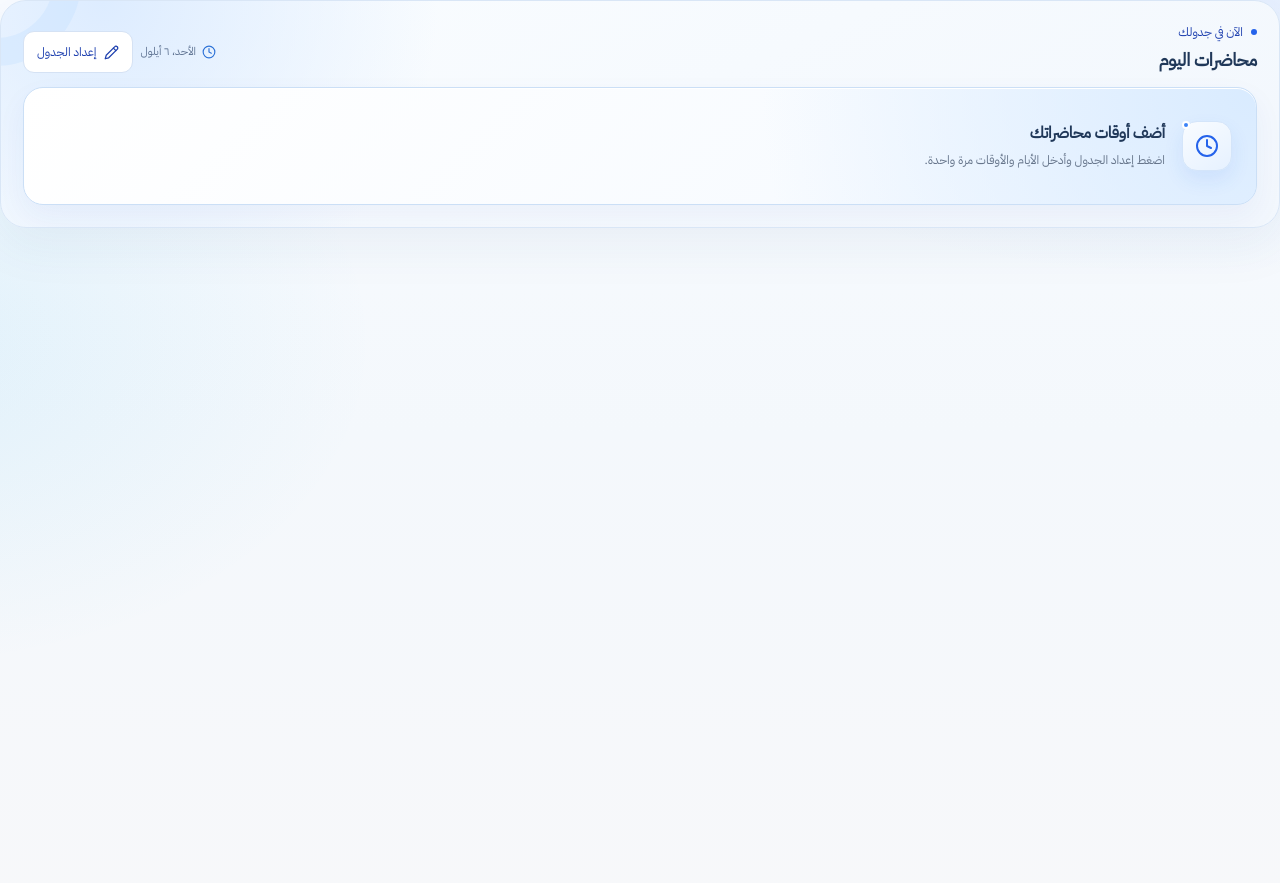
Test: current lecture widget › edits one recurring schedule and hides the editor after saving
Click the button "إعداد الجدول" at (78, 52), box [23,31,132,73]
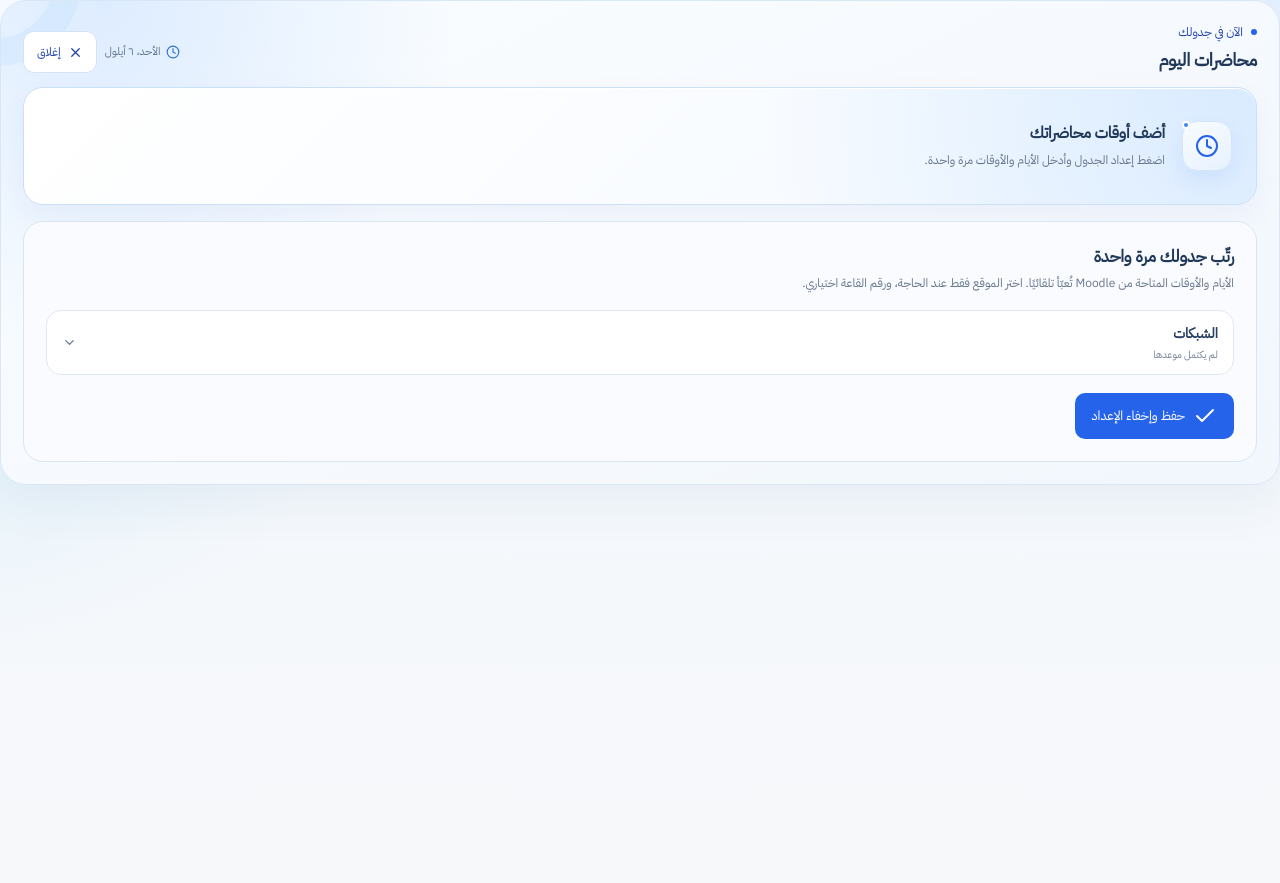
Click the text "الشبكات" at (1196, 333), box [1173,322,1218,344]
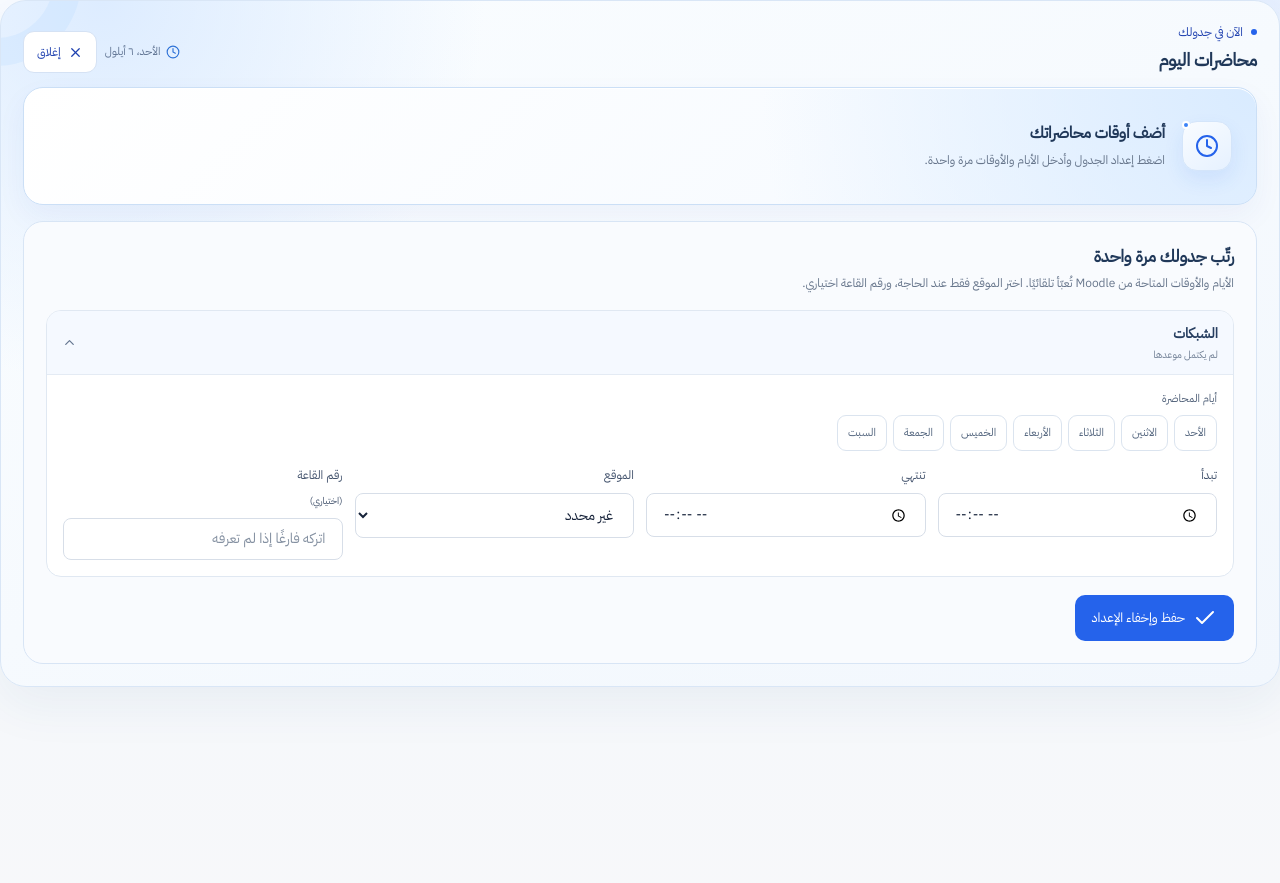
Click the checkbox labelled "الأحد" at (1196, 433), box [1174,415,1217,451]
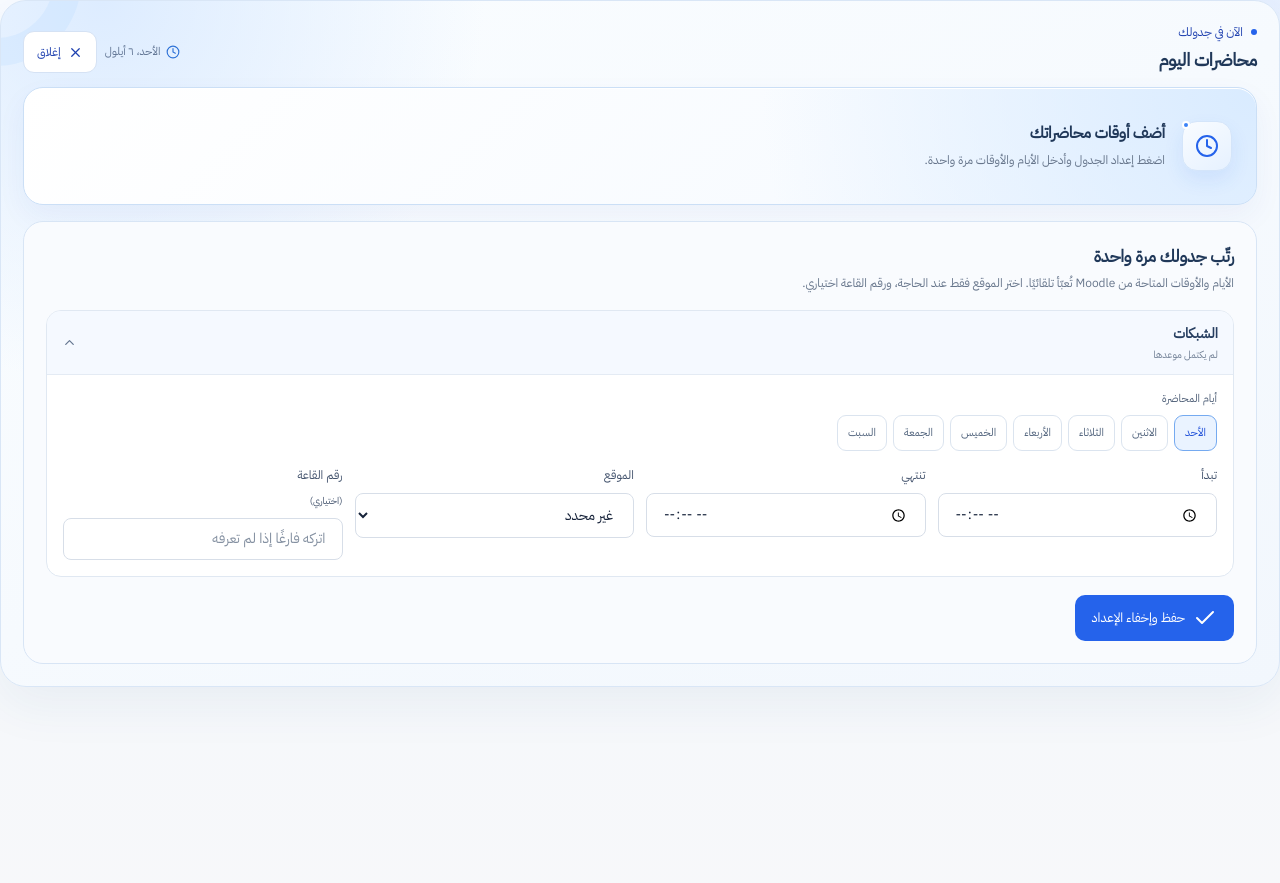
Type "10:00" into the time field labelled "تبدأ" at (1077, 515), box [938,493,1217,537]
Type "12:00" into the time field labelled "تنتهي" at (786, 515), box [646,493,926,537]
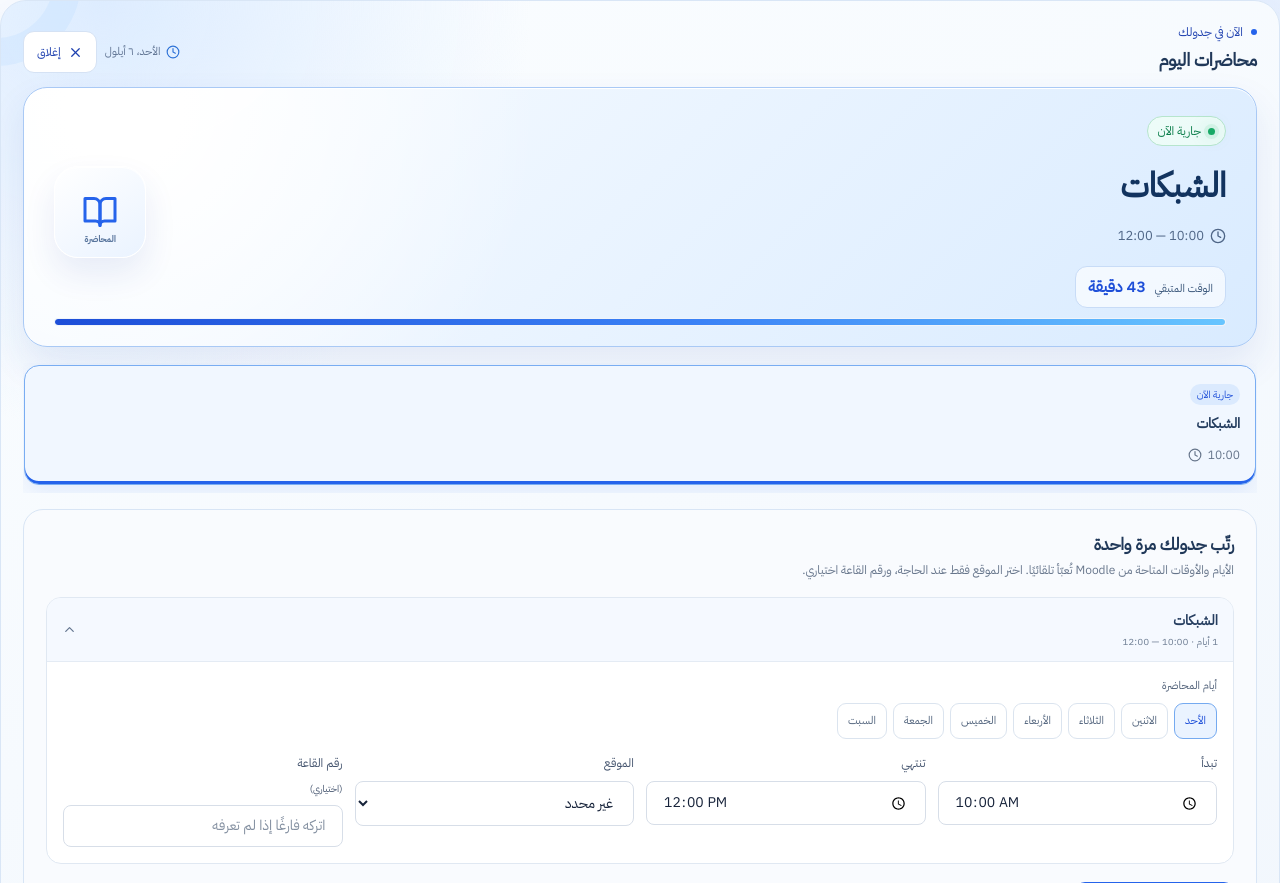
Select "الاعمال" in the dropdown labelled "الموقع" at (494, 804), box [354,781,634,826]
Type "713" into the field labelled "رقم القاعة (اختياري)" at (203, 826), box [63,806,342,848]
(page scrolled)
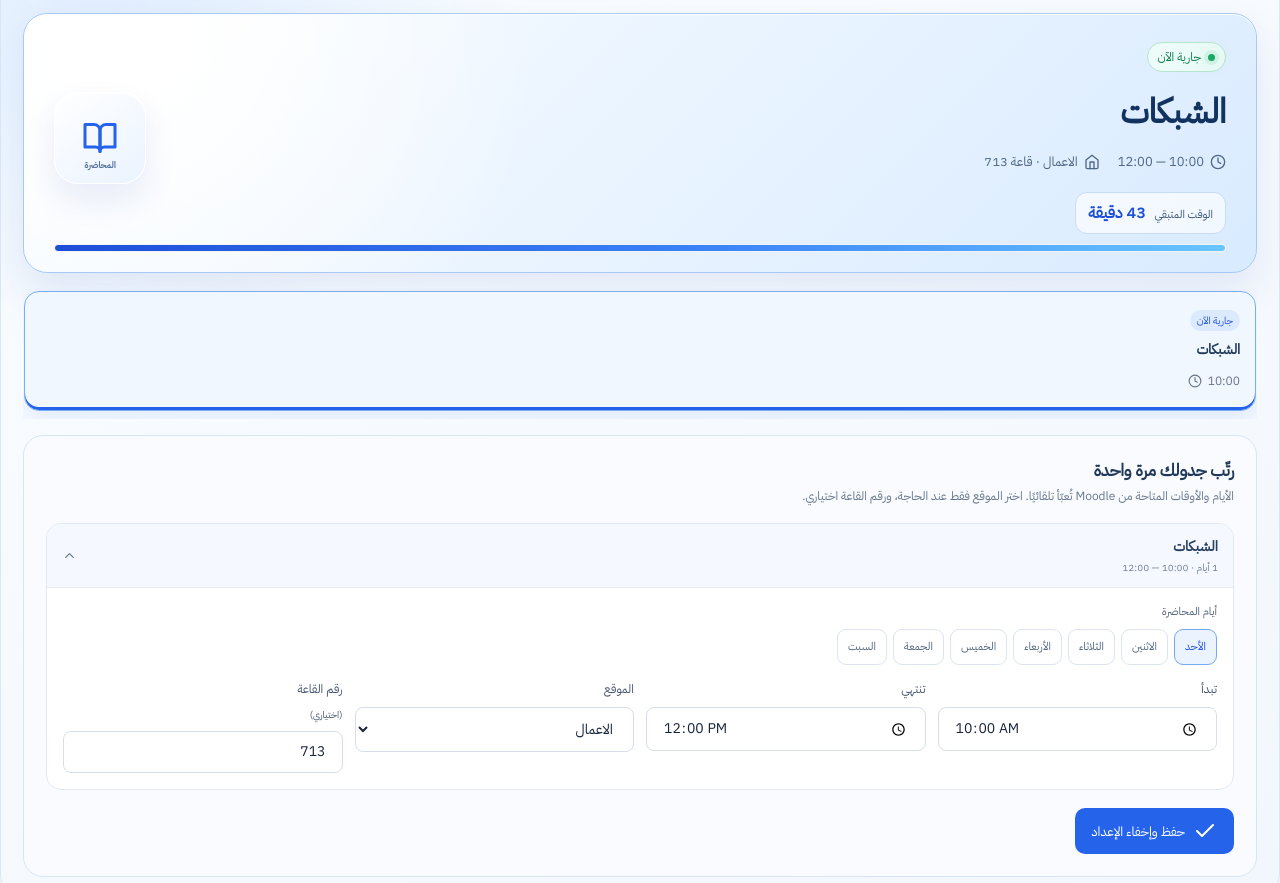
Expected: the text "الاعمال · قاعة 713" is shown, [984,152,1100,172]
Click the button "حفظ وإخفاء الإعداد" at (1154, 832), box [1074,808,1234,854]
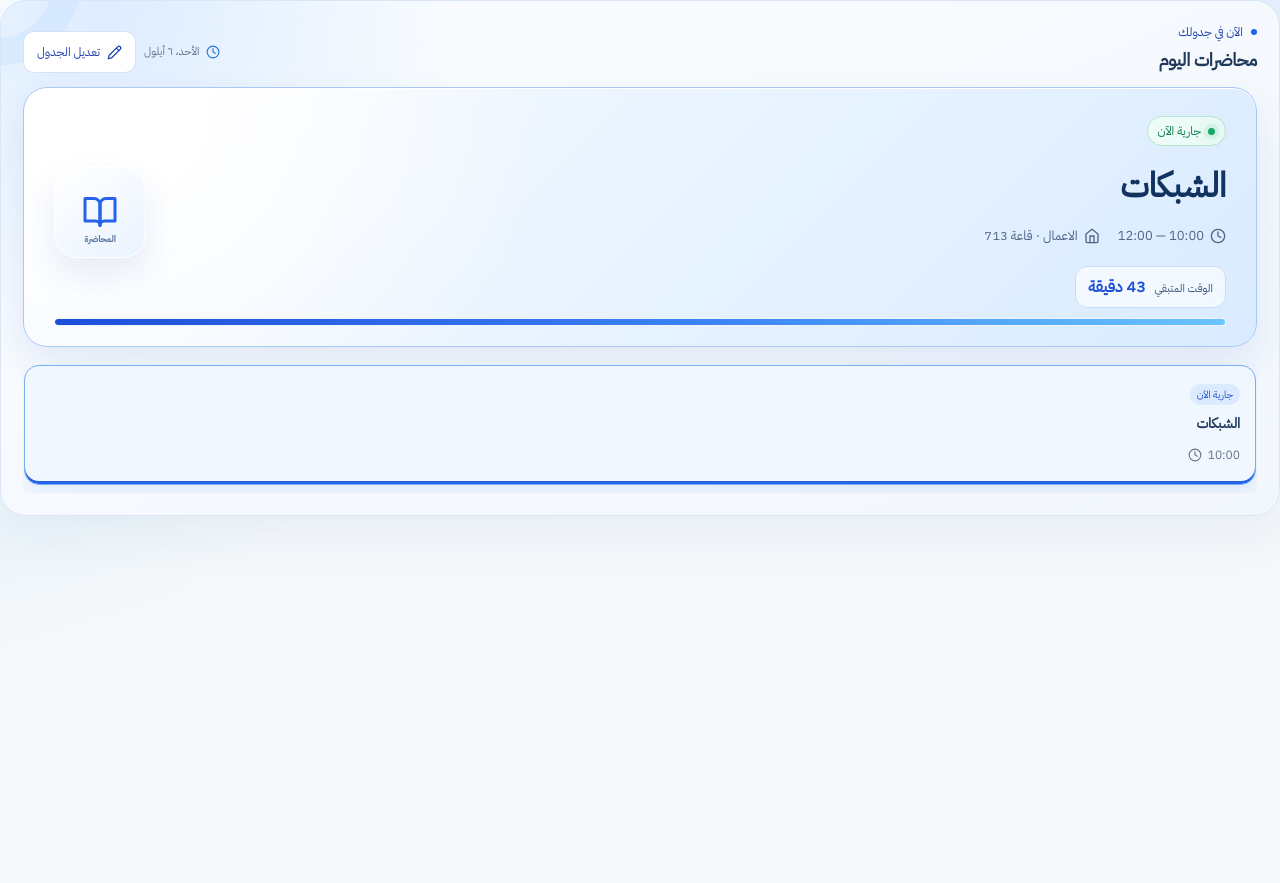
Expected: the label labelled "تبدأ" is gone
Expected: the button "تعديل الجدول" is shown, [23,31,136,73]
